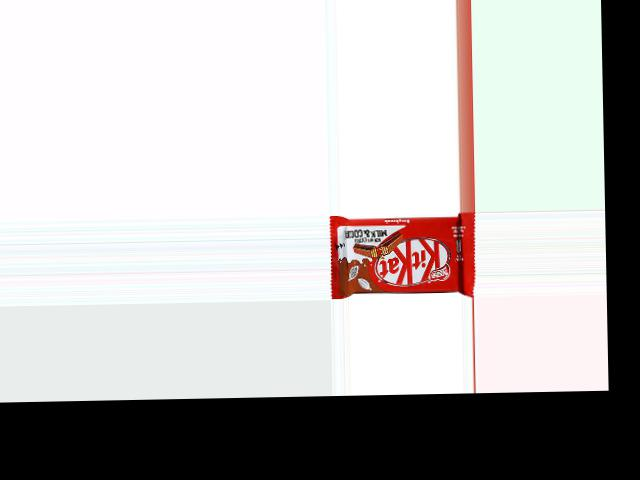chocolate: (328, 212, 475, 299)
